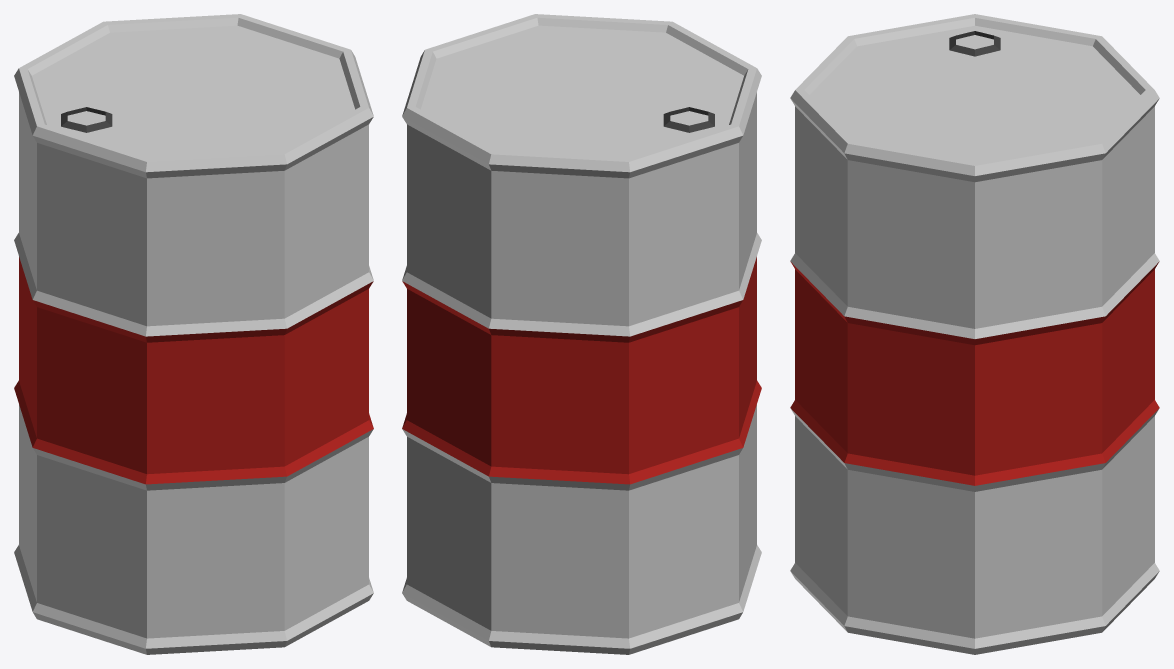
Rendered from DrumWhiteRed.fbx.
3 renders of one model, left to right at view 1: azimuth 30°, elevation 25°; view 2: azimuth 150°, elevation 25°; view 3: azimuth 270°, elevation 25°, orthographic.
Visible parts, largest first — view 1: Cylinder; view 2: Cylinder; view 3: Cylinder.
Boxes of the visible parts, <box> form: Cylinder: <box>14,14,373,654</box>; Cylinder: <box>402,14,761,654</box>; Cylinder: <box>790,14,1159,654</box>.
Size of the model in its own units: 0.822 by 1.2 by 0.822.
